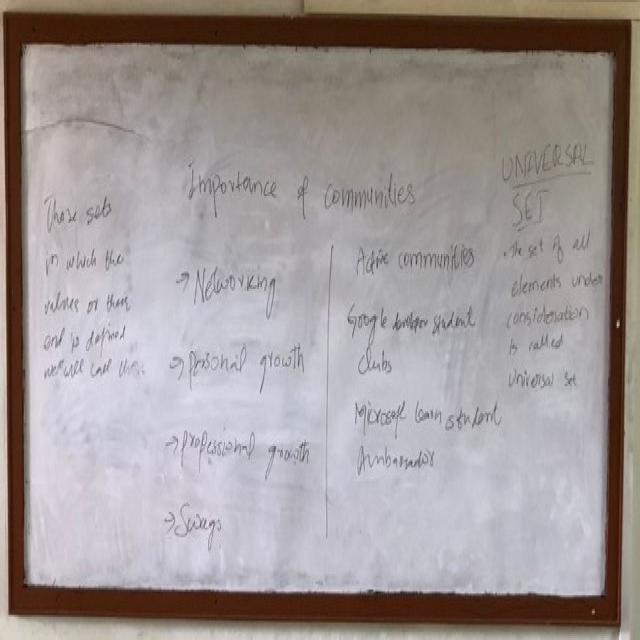White-board: (14, 34, 625, 619)
